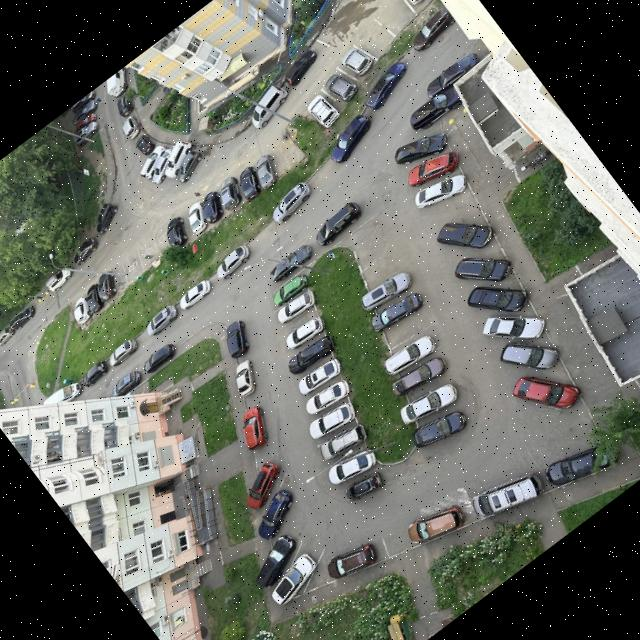car: (508, 353, 586, 431), (478, 292, 551, 362), (496, 321, 566, 390), (473, 469, 543, 518), (547, 443, 618, 488), (398, 380, 461, 426), (382, 329, 441, 378), (312, 197, 366, 248), (390, 355, 451, 399), (408, 85, 462, 133), (271, 550, 318, 605), (425, 51, 478, 99), (369, 290, 427, 333), (252, 531, 296, 587), (408, 503, 466, 545), (359, 271, 416, 313), (411, 410, 467, 451), (305, 400, 357, 444), (287, 333, 336, 378), (410, 4, 455, 53), (329, 116, 374, 165), (294, 355, 344, 399), (266, 241, 316, 285), (326, 542, 381, 581), (364, 60, 407, 109), (301, 379, 352, 420), (407, 150, 458, 190), (326, 447, 376, 487), (466, 283, 531, 313), (316, 423, 367, 461), (256, 488, 294, 539), (271, 179, 314, 224), (243, 459, 280, 511), (415, 172, 465, 210), (436, 219, 495, 251), (396, 131, 446, 168), (251, 84, 289, 129), (274, 289, 317, 327), (269, 271, 313, 308), (283, 313, 326, 350), (342, 468, 385, 504), (451, 256, 512, 280), (217, 243, 253, 280), (242, 404, 269, 451), (284, 49, 317, 87), (306, 94, 341, 129), (141, 342, 178, 374), (223, 320, 250, 360), (146, 304, 179, 336), (165, 141, 192, 179), (179, 279, 212, 310), (341, 46, 373, 76), (324, 73, 358, 101), (234, 359, 258, 397), (44, 382, 83, 405), (112, 369, 143, 397), (108, 338, 139, 366), (256, 153, 279, 190), (141, 145, 165, 179), (152, 147, 173, 185), (240, 165, 262, 201), (220, 175, 242, 211), (73, 237, 100, 266), (202, 190, 224, 225), (177, 152, 202, 182), (82, 359, 109, 386), (46, 267, 74, 293), (96, 203, 120, 233), (74, 120, 100, 147), (72, 98, 99, 124), (167, 215, 189, 246), (106, 67, 128, 98), (9, 306, 35, 330), (98, 271, 117, 303), (189, 202, 207, 235), (70, 91, 95, 114), (73, 295, 92, 325), (86, 284, 103, 315), (74, 112, 98, 133), (116, 91, 134, 118), (136, 132, 156, 156), (121, 115, 141, 139), (0, 326, 15, 346)
